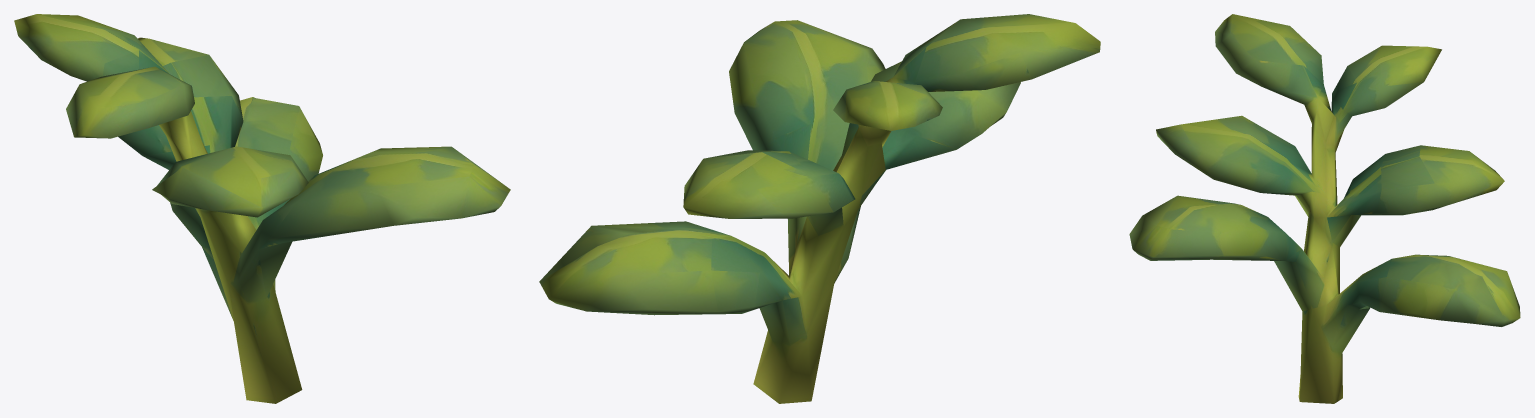
Rendered from crop-seedling-runtime.glb.
3 renders of one model, left to right at view 1: azimuth 30°, elevation 25°; view 2: azimuth 150°, elevation 25°; view 3: azimuth 270°, elevation 25°, orthographic. The views are drawn at different scales.
Visible parts, largest first — view 1: tripo_node_703b99f5-f6e5-40c6-9579-d08a9879381f; view 2: tripo_node_703b99f5-f6e5-40c6-9579-d08a9879381f; view 3: tripo_node_703b99f5-f6e5-40c6-9579-d08a9879381f.
Boxes of the visible parts, x1=… form: tripo_node_703b99f5-f6e5-40c6-9579-d08a9879381f: x1=14, y1=14, x2=510, y2=403; tripo_node_703b99f5-f6e5-40c6-9579-d08a9879381f: x1=539, y1=14, x2=1100, y2=403; tripo_node_703b99f5-f6e5-40c6-9579-d08a9879381f: x1=1129, y1=14, x2=1520, y2=403.
Bounding box in the file's own units: 0.3166 × 0.3 × 0.3524.
Materials: 1 (1 with a texture image).
